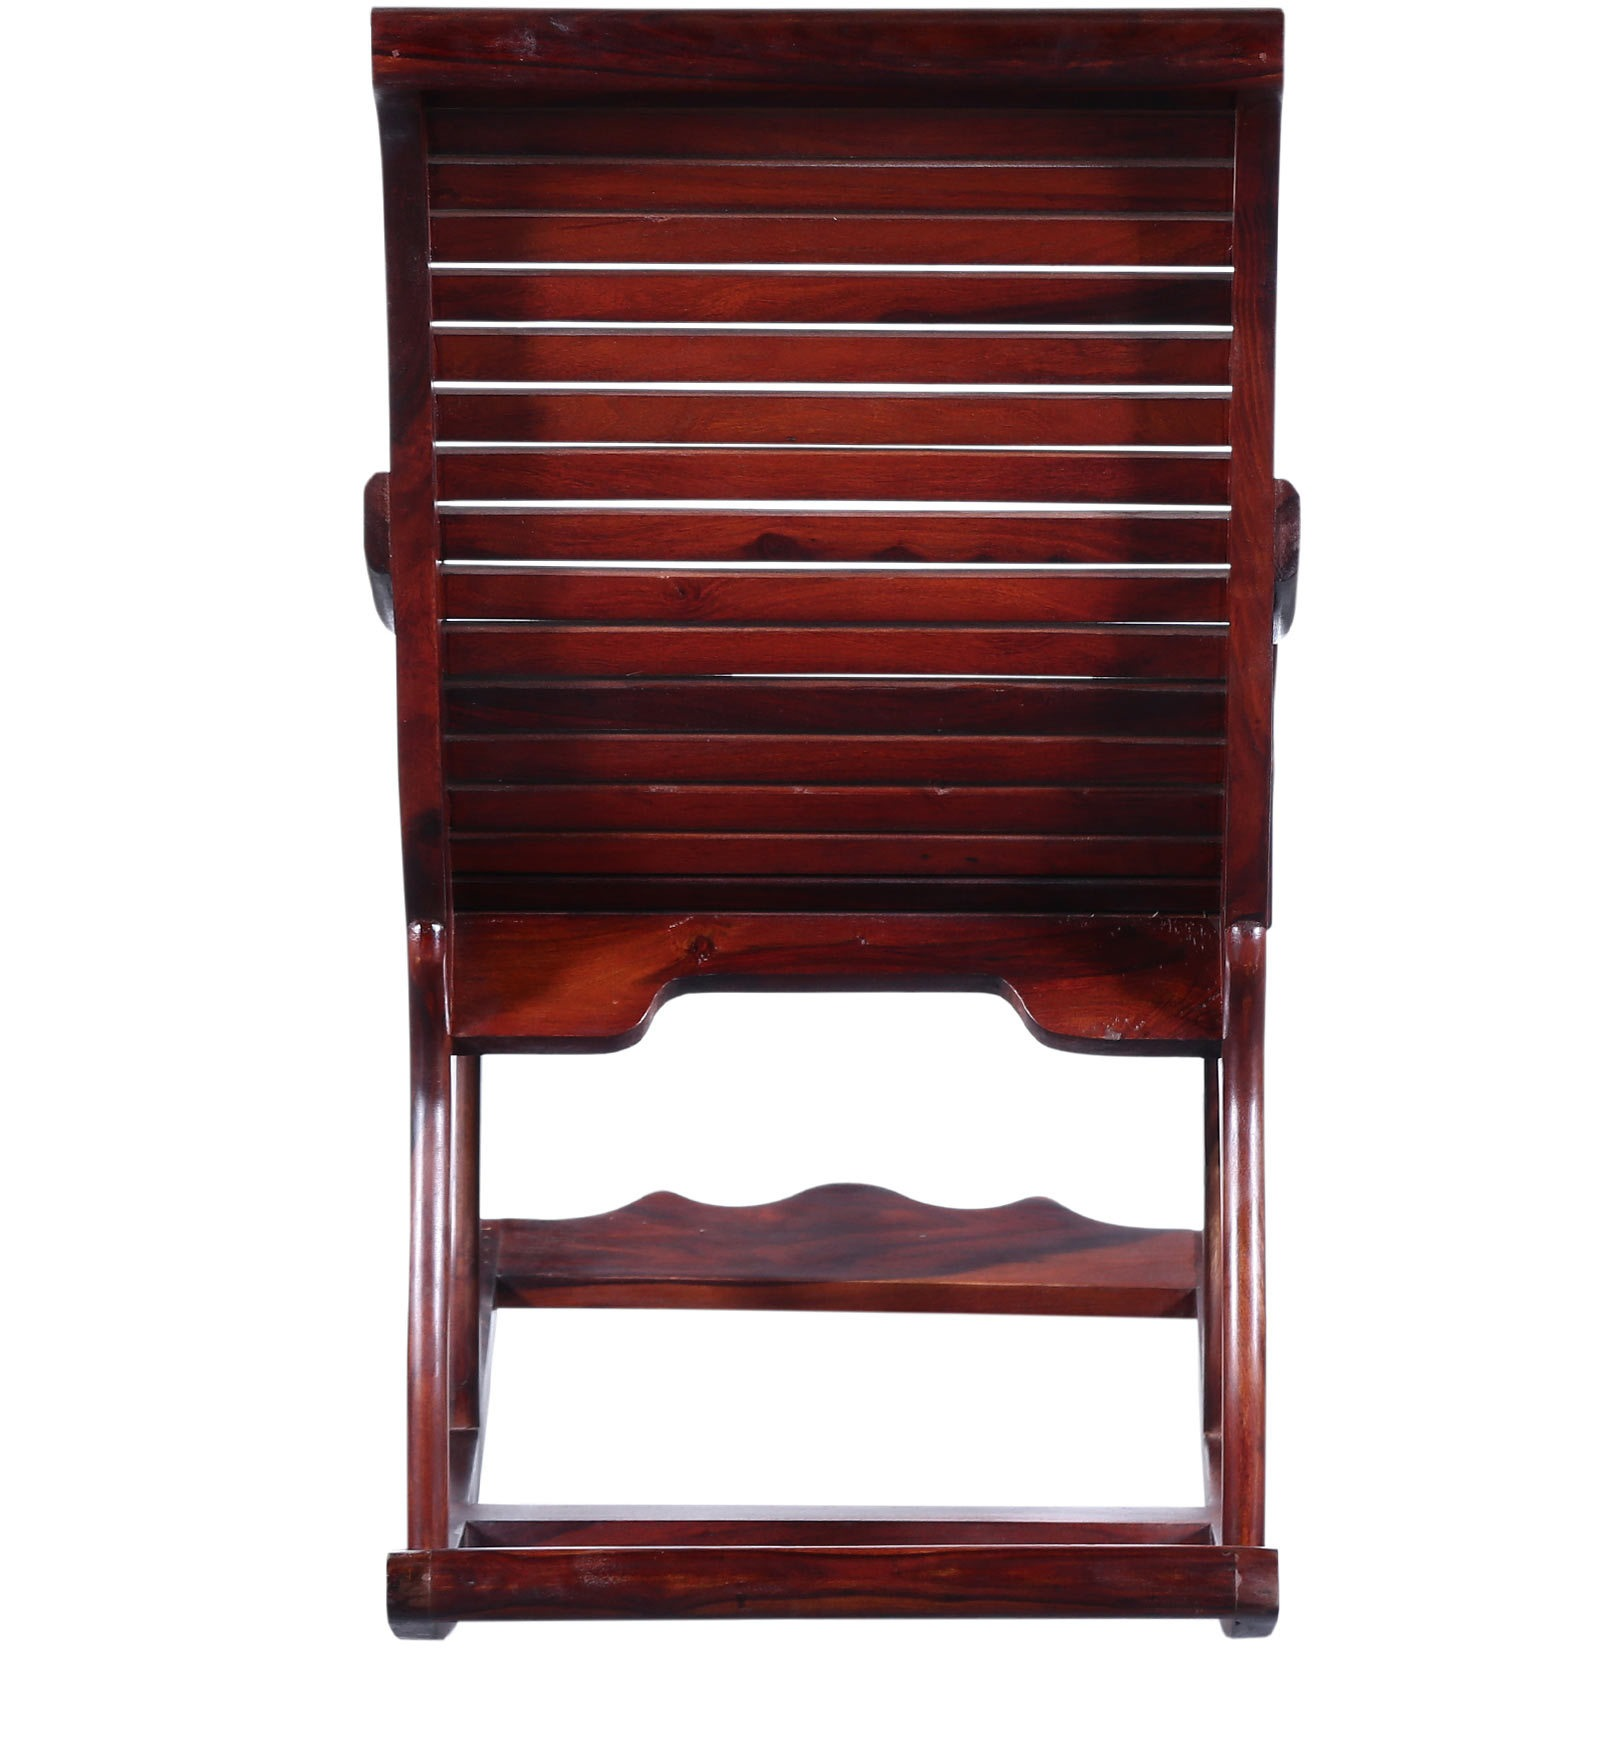Acklom Rocking Chair in Honey Oak Finish by Amberville: (339, 12, 1330, 1680)
